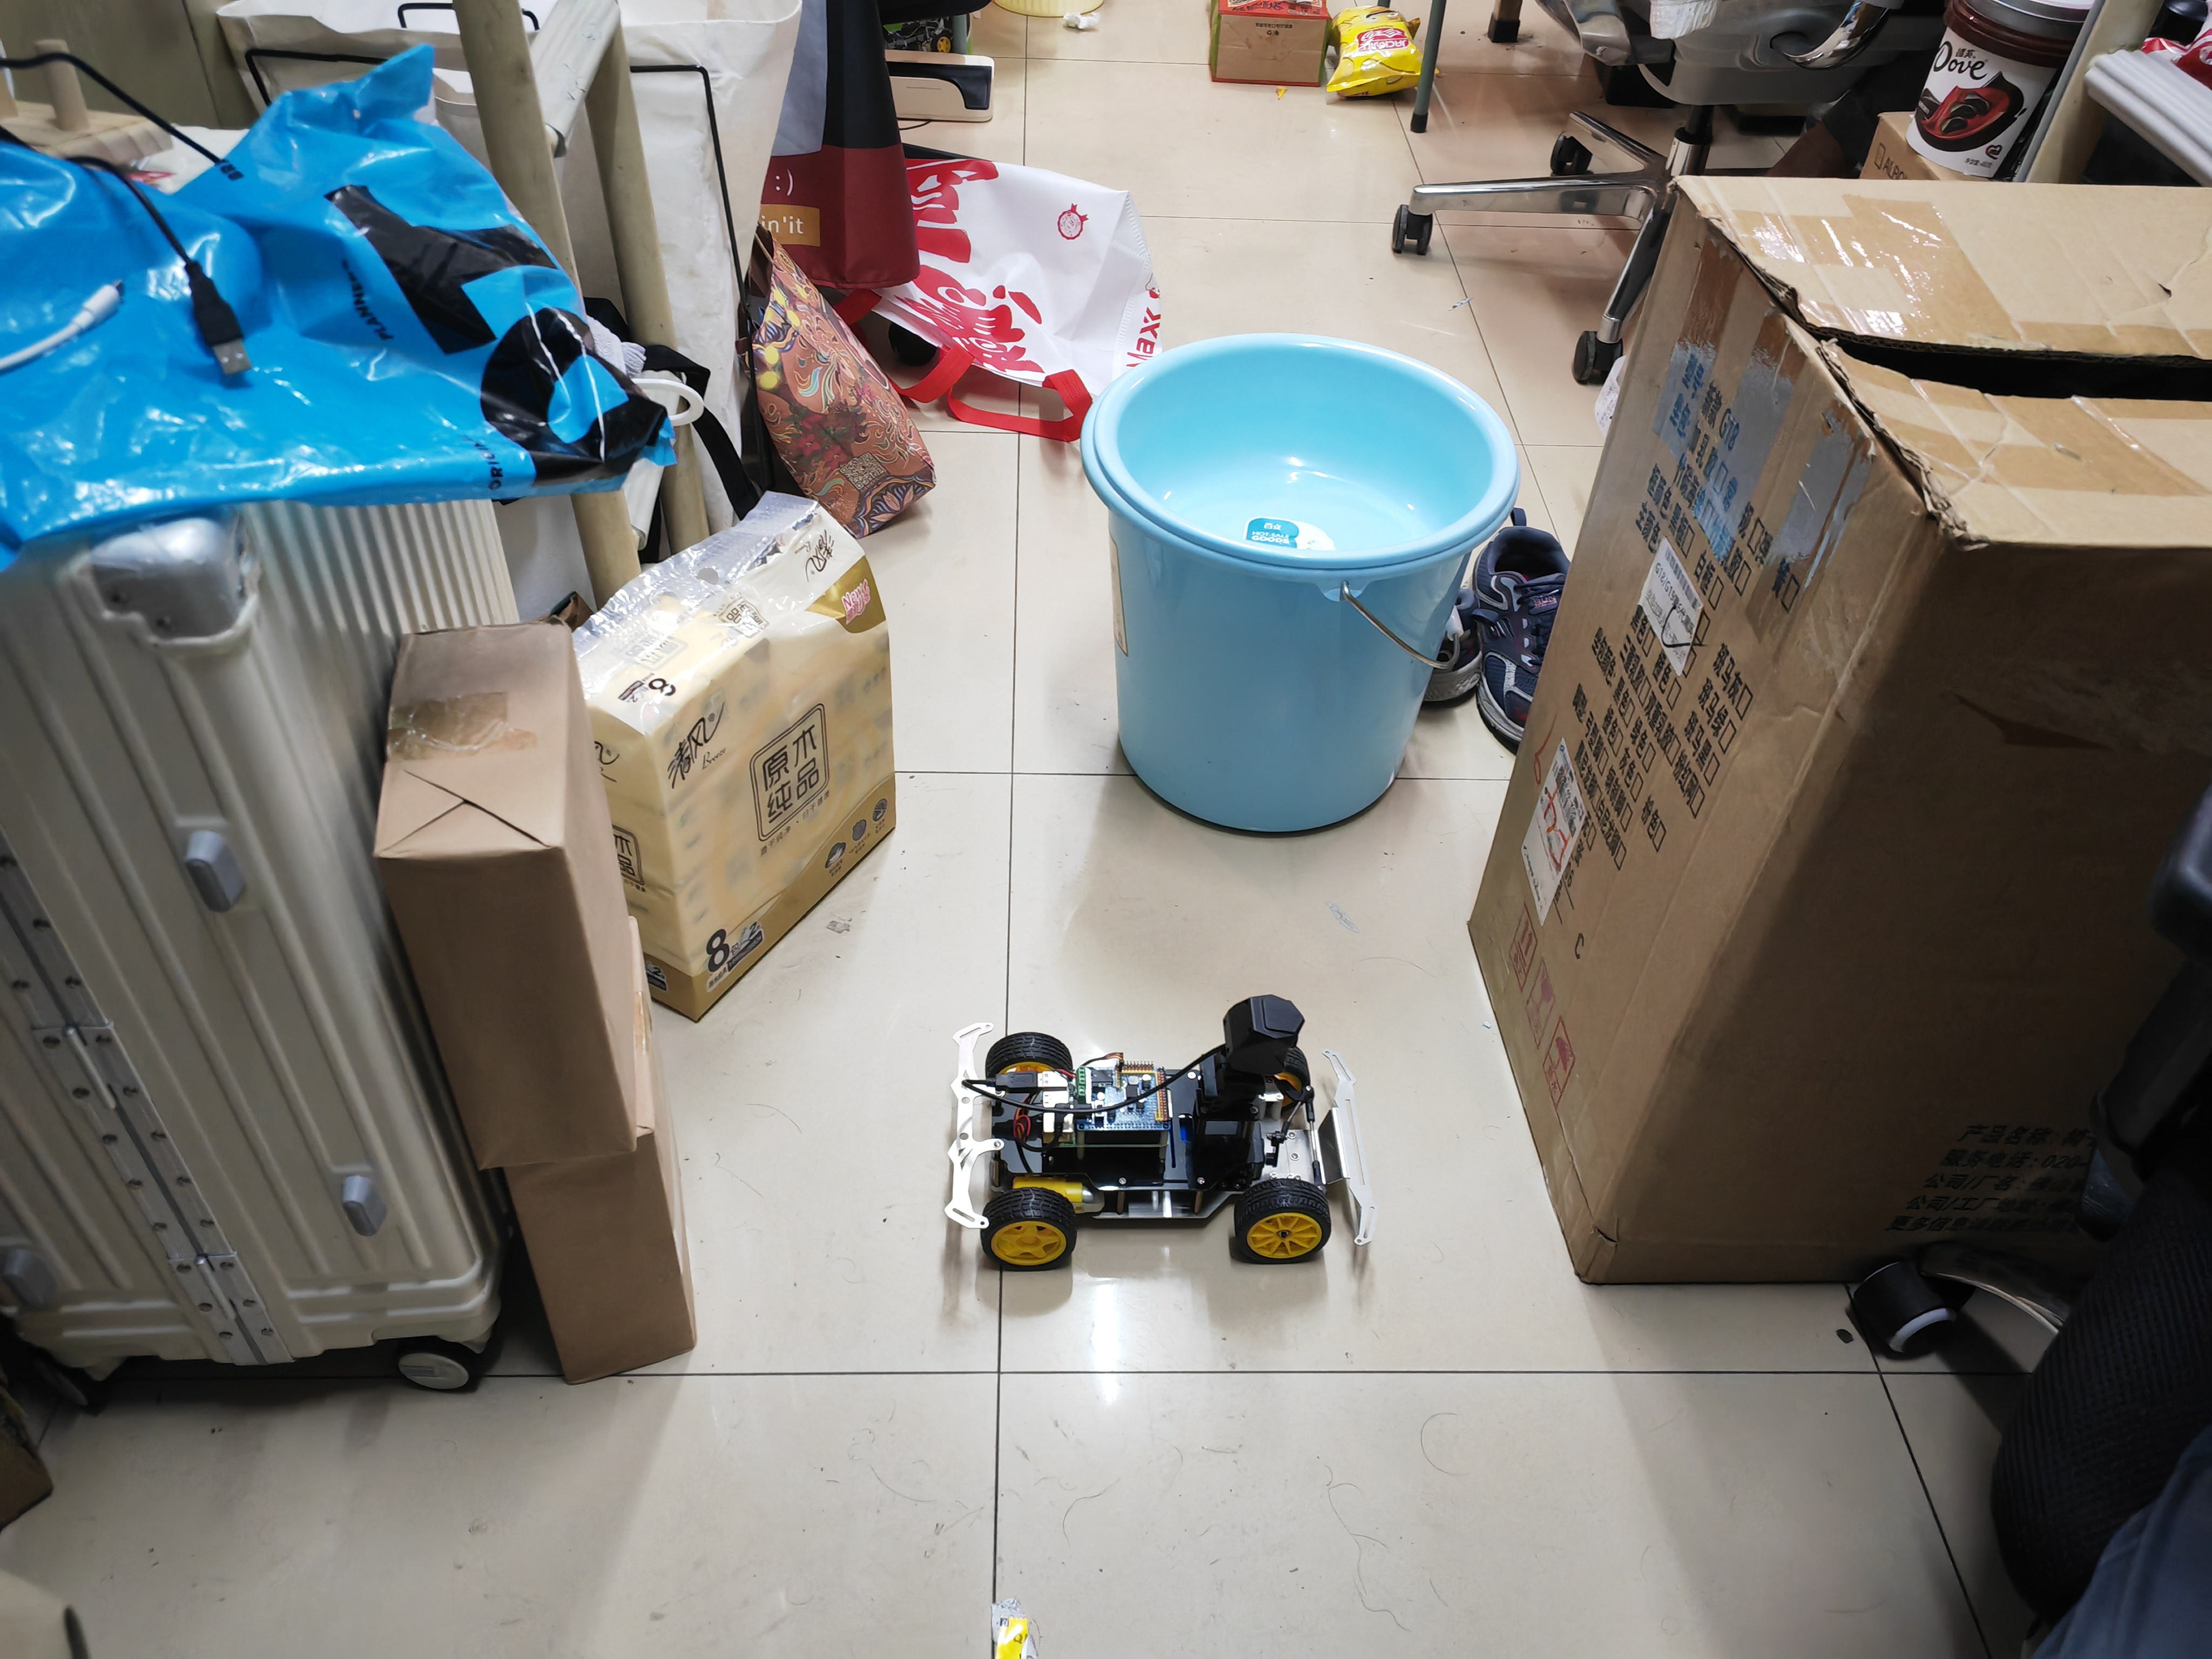car: (941, 981, 1374, 1295)
